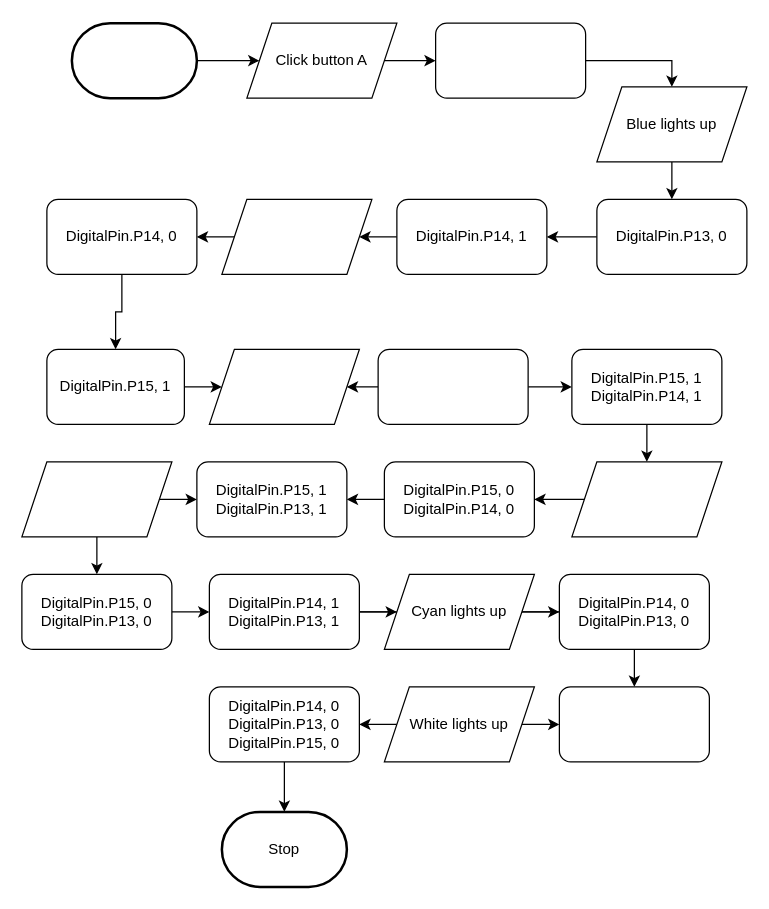
Image size: 769x909. Some labels were removed from this diagram. Each missing label, with the box of its shape:
DigitalPin.P13, 1: (434, 22, 586, 98)
DigitalPin.P14, 1 DigitalPin.P13, 1 DigitalPin.P15, 1: (558, 686, 709, 762)
DigitalPin.P15, 0: (377, 348, 528, 424)
Green lights up: (221, 198, 372, 274)
Purple lights up: (21, 461, 172, 537)
Red lights up: (208, 348, 359, 424)
Start: (70, 21, 198, 99)
Yellow lights up: (571, 461, 722, 537)
